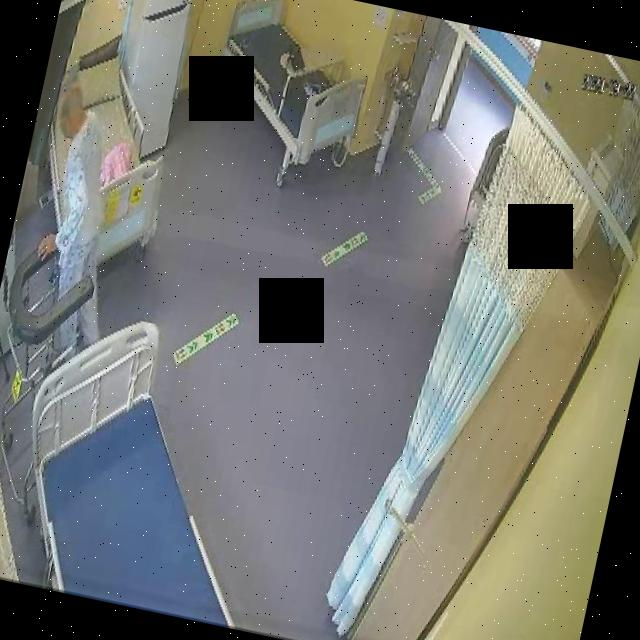bed: (0, 299, 287, 628), (19, 42, 189, 288), (205, 0, 382, 173)
patient: (11, 84, 150, 358)
